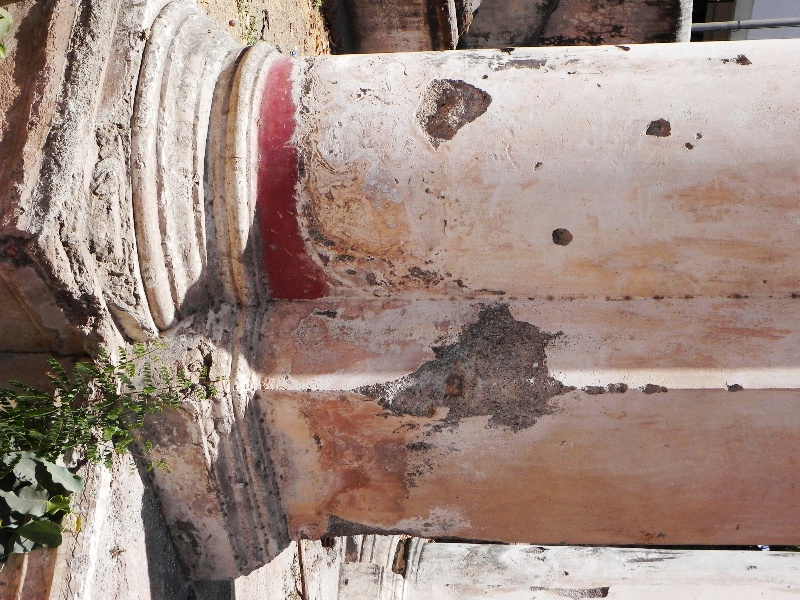Spalling: (350, 300, 583, 437), (92, 89, 145, 319), (410, 72, 498, 151), (545, 221, 581, 254), (640, 113, 674, 141)
